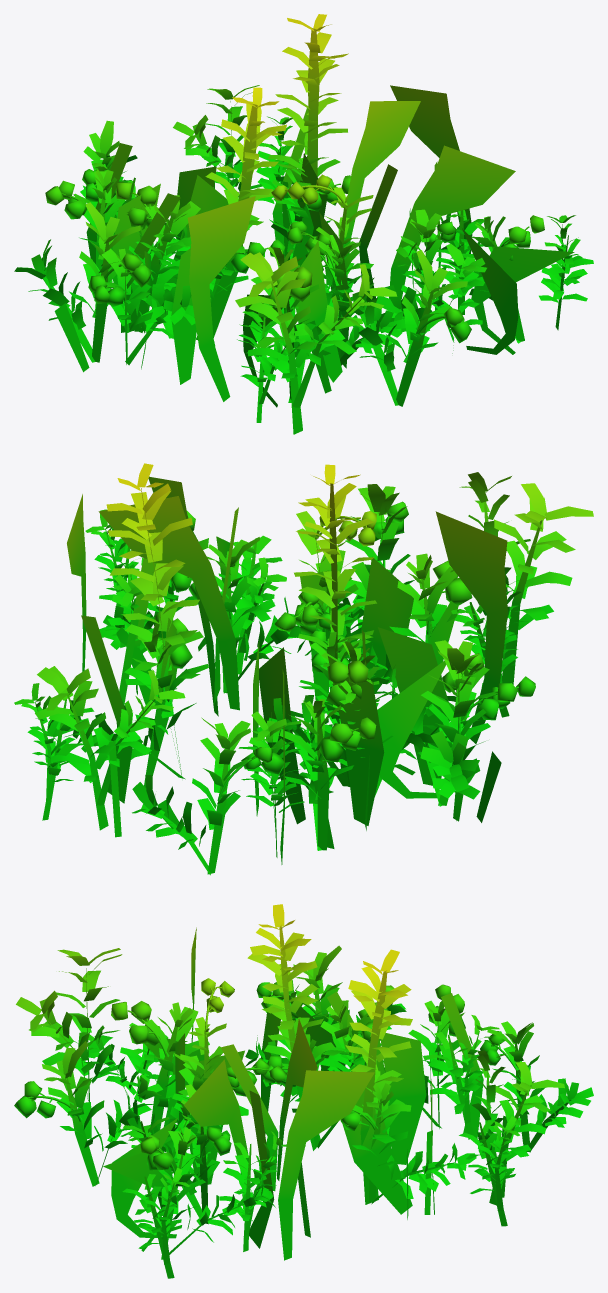
Rendered from Lingonberry_LOD3_Var3.fbx.
The picture shows the model from 3 angles, top to bottom: view 1: azimuth 30°, elevation 25°; view 2: azimuth 150°, elevation 25°; view 3: azimuth 270°, elevation 25°; orthographic projection. The views are drawn at different scales.
Visible parts, largest first — view 1: _91uy_Var3_LOD3; view 2: _91uy_Var3_LOD3; view 3: _91uy_Var3_LOD3.
Part boxes in pixels (box(x1,y1,x2,y2)): _91uy_Var3_LOD3: box(14, 14, 593, 434); _91uy_Var3_LOD3: box(14, 463, 593, 875); _91uy_Var3_LOD3: box(14, 904, 593, 1278).
Size of the model in its own units: 41.56 by 23.98 by 47.69.
